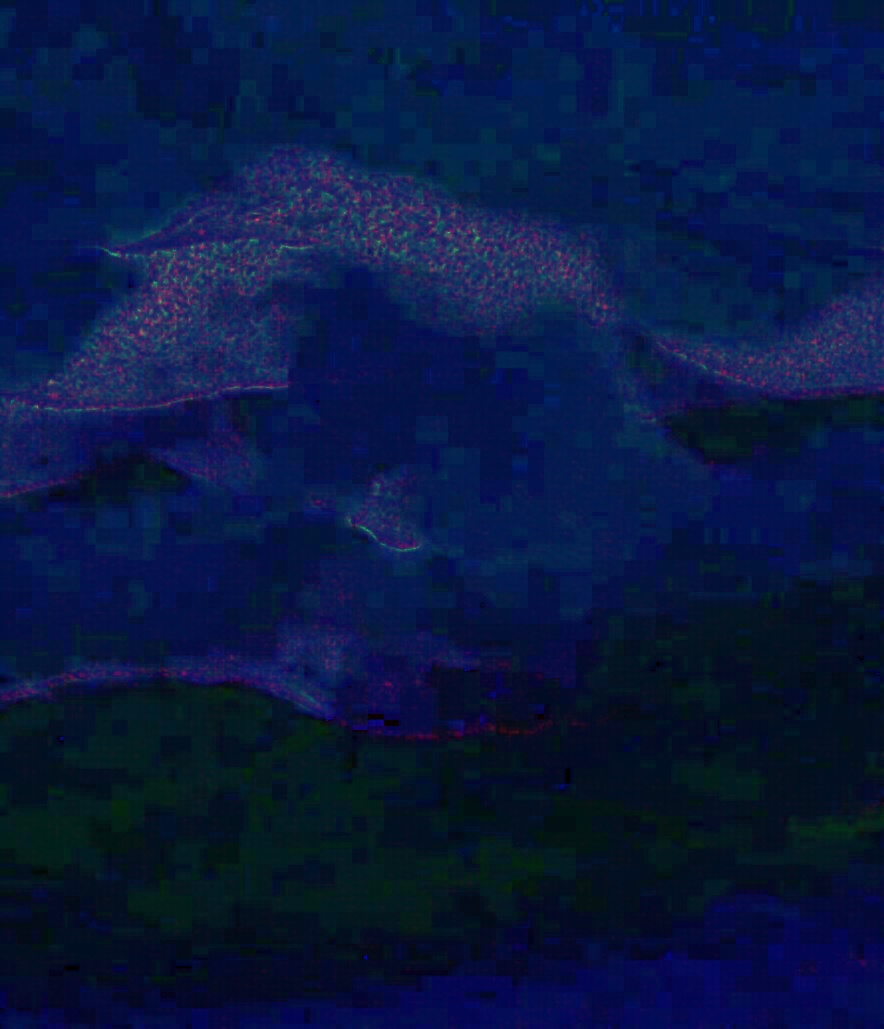rip_current: (196, 121, 595, 645)
